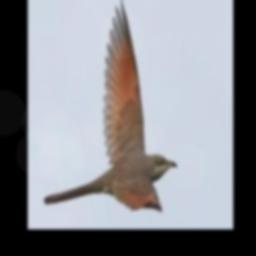Cuckoo: (44, 0, 177, 210)
